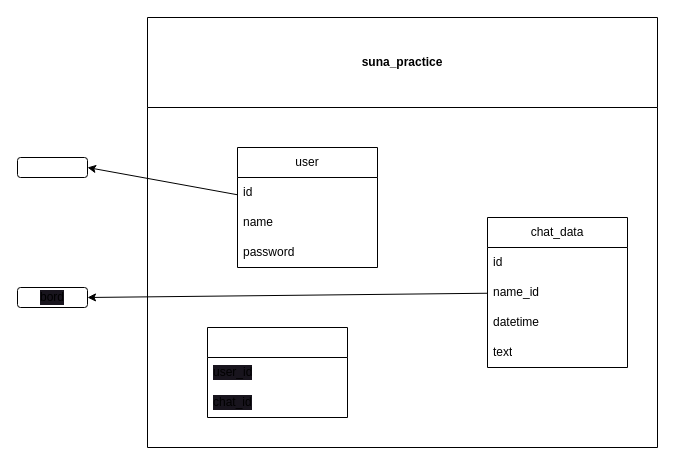
The diagram is 675 pixels wide and 465 high, and some of its shapes have lost their labels. Here are the shapes that lost their labels. From the top down, the box of each, then its label:
(16, 156, 88, 178): login
(206, 326, 348, 418): nice
